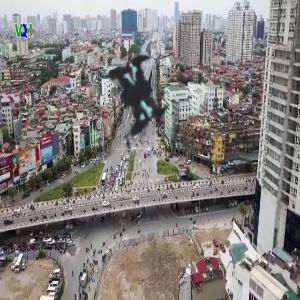drone: (36, 2, 228, 194)
